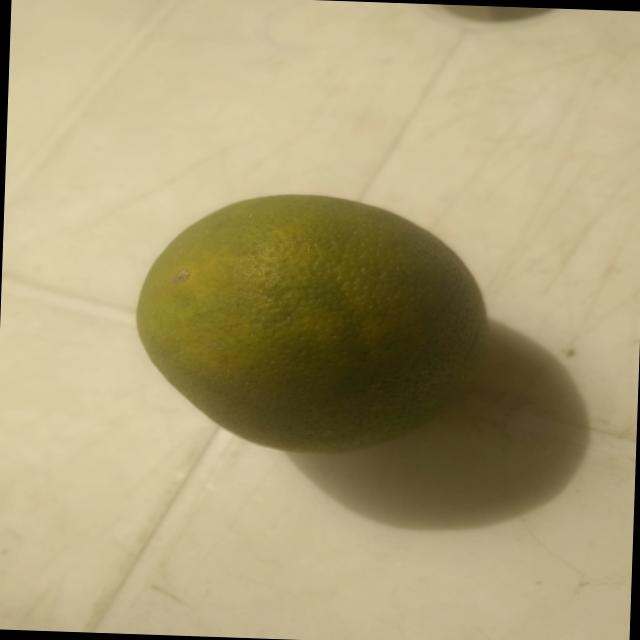agrume: (129, 184, 499, 465)
